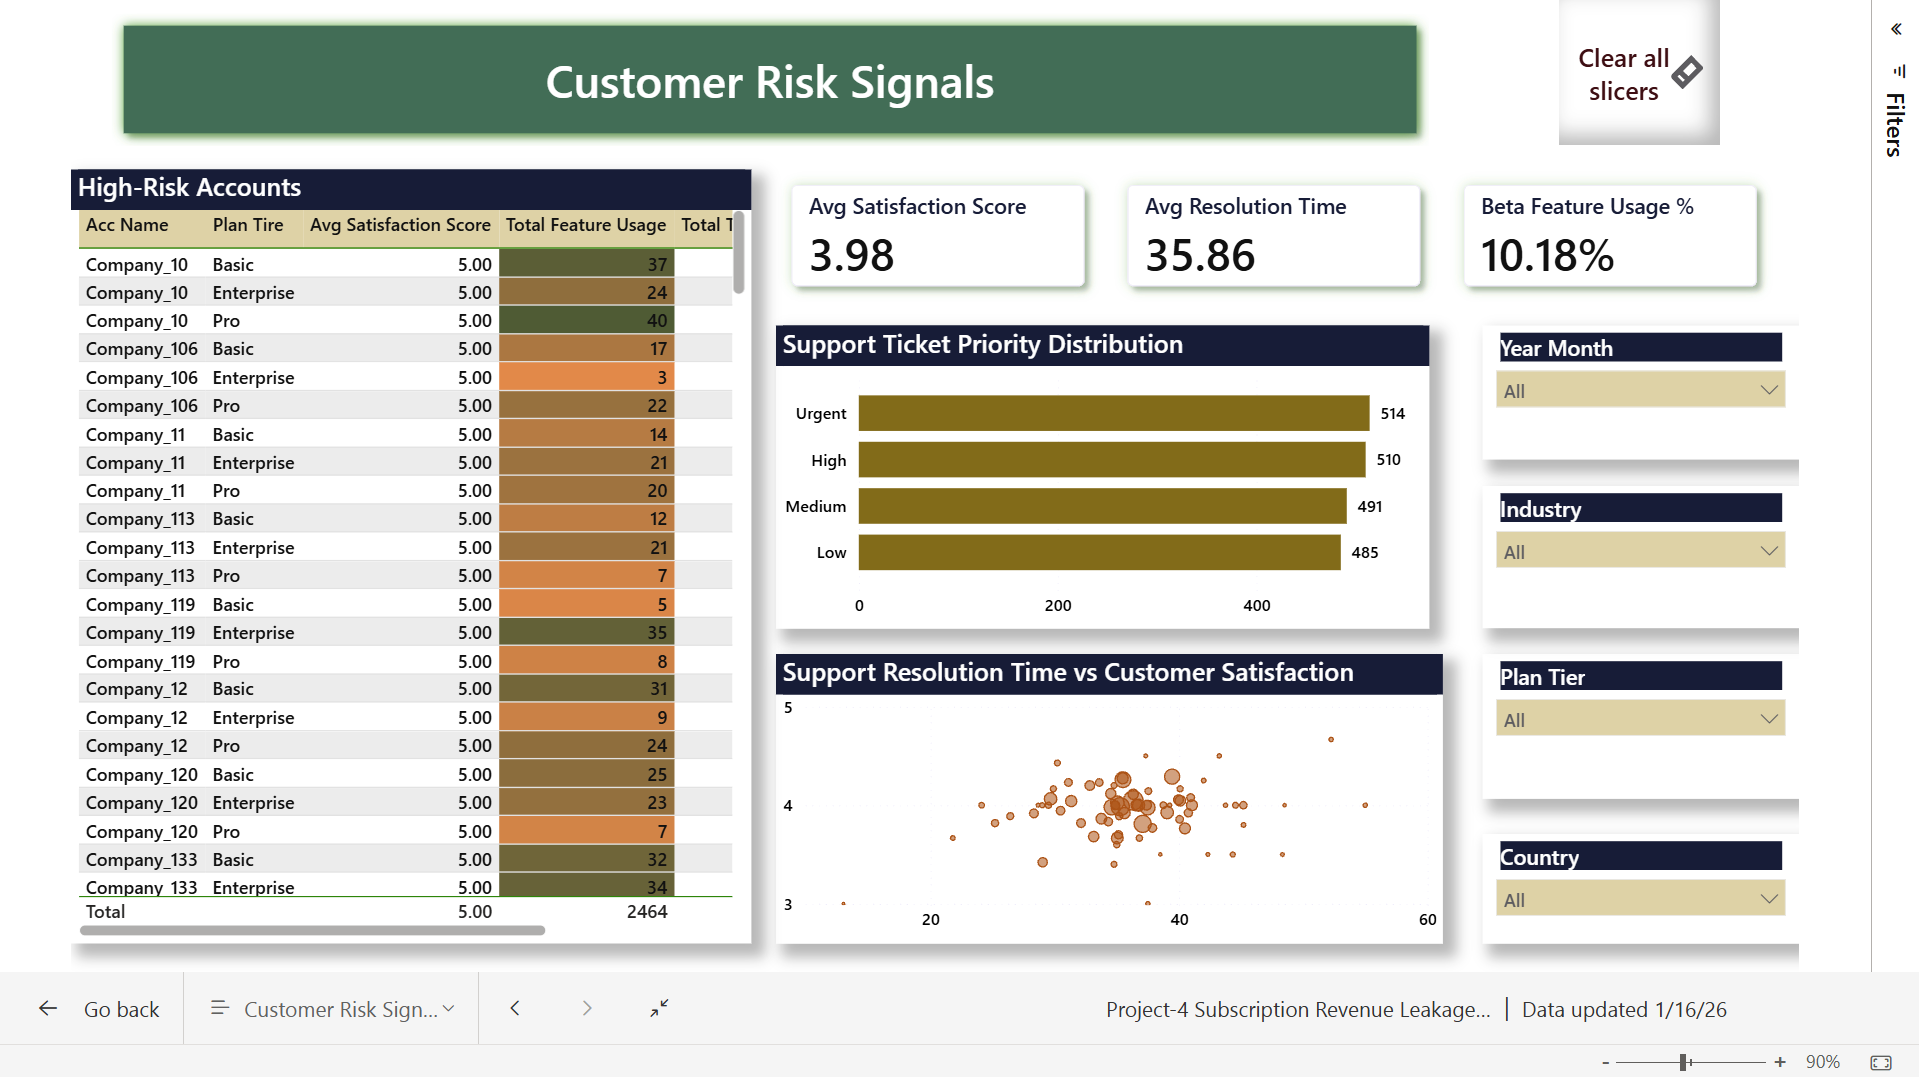

The dashboard page shown, as its layout file describes it:
{"tool":"powerbi","page":{"name":"Customer Risk Signals","canvas":[1280,720],"ordinal":3},"visuals":[{"type":"cardVisual","fields":{"Data":["_Measures.Avg Satisfaction Score","_Measures.Avg Resolution Time (Hrs)","_Measures.Beta Feature Usage %"]},"box":[504.3,107.3,775.7,133.7],"z":1000},{"type":"scatterChart","title":"Support Resolution Time vs Customer Satisfaction","fields":{"Category":["Dim_Account.seats"],"Size":["_Measures.Total Tickets"],"X":["_Measures.Avg Resolution Time (Hrs)"],"Y":["_Measures.Avg Satisfaction Score"]},"box":[522.5,484.1,494.2,214.7],"z":2000},{"type":"slicer","fields":{"Values":["Dim_Account.country"]},"box":[1045.1,617.7,234.9,81],"z":3000},{"type":"slicer","fields":{"Values":["Dim_Plan.Plan Tier"]},"box":[1045.1,484.1,234.9,107.3],"z":4000},{"type":"slicer","fields":{"Values":["Dim_Date.Year Month"]},"box":[1045.1,241,234.9,99.2],"z":5000},{"type":"clusteredBarChart","title":"Support Ticket Priority Distribution","fields":{"Category":["Fact_SupportTicket.priority"],"Y":["_Measures.Total Tickets"]},"box":[522.5,241,484.1,224.8],"z":6000},{"type":"actionButton","box":[1101.8,0,119.5,107.3],"z":7000},{"type":"shape","box":[29.8,9.9,975.7,97.7],"z":8000},{"type":"slicer","title":"Reason Code","fields":{"Values":["Dim_Account.industry"]},"box":[1045.1,360.5,234.9,105.3],"z":9000},{"type":"tableEx","title":"High-Risk Accounts","fields":{"Values":["Dim_Account.account_name","Fact_Subscription.plan_tier","_Measures.Avg Satisfaction Score","_Measures.Total Feature Usage","_Measures.Total Tickets","_Measures.High Risk Account Flag"]},"box":[0,125.6,504.3,573.2],"z":10000}]}

Visuals, with their boxes on the page's 1280x720 design canvas (x1, y1, x2, y2). These are canvas units, not pixel positions in the 1919x1077 screenshot, which may show the page scaled, cropped or inside an application window:
cardVisual - _Measures.Avg Satisfaction Score x _Measures.Avg Resolution Time (Hrs): [x1=504, y1=107, x2=1280, y2=241]
"Support Resolution Time vs Customer Satisfaction" scatterChart: [x1=522, y1=484, x2=1017, y2=699]
slicer - Dim_Account.country: [x1=1045, y1=618, x2=1280, y2=699]
slicer - Dim_Plan.Plan Tier: [x1=1045, y1=484, x2=1280, y2=591]
slicer - Dim_Date.Year Month: [x1=1045, y1=241, x2=1280, y2=340]
"Support Ticket Priority Distribution" clusteredBarChart: [x1=522, y1=241, x2=1007, y2=466]
actionButton: [x1=1102, y1=0, x2=1221, y2=107]
shape: [x1=30, y1=10, x2=1006, y2=108]
"Reason Code" slicer: [x1=1045, y1=360, x2=1280, y2=466]
"High-Risk Accounts" tableEx: [x1=0, y1=126, x2=504, y2=699]
